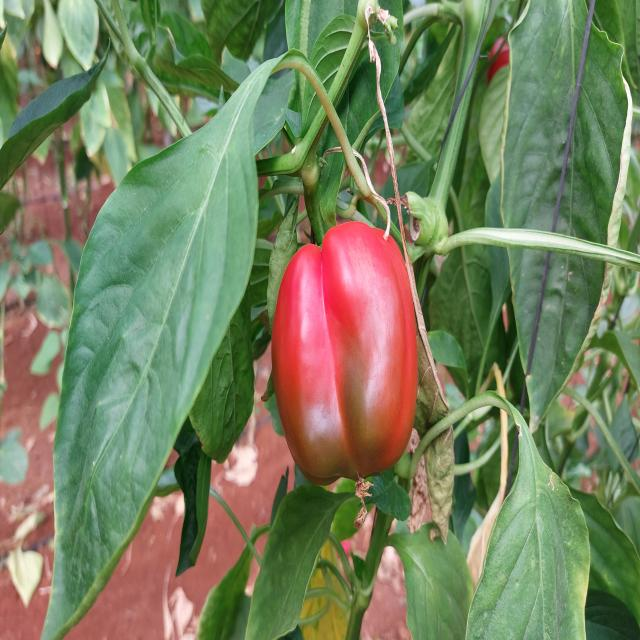Red-Ready-to-Harvest: (269, 209, 433, 494)
